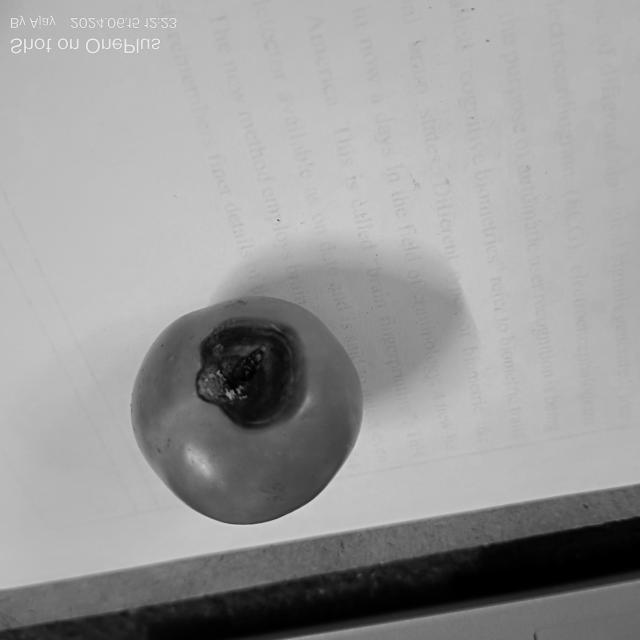Anthrocnose: (195, 320, 308, 434)
